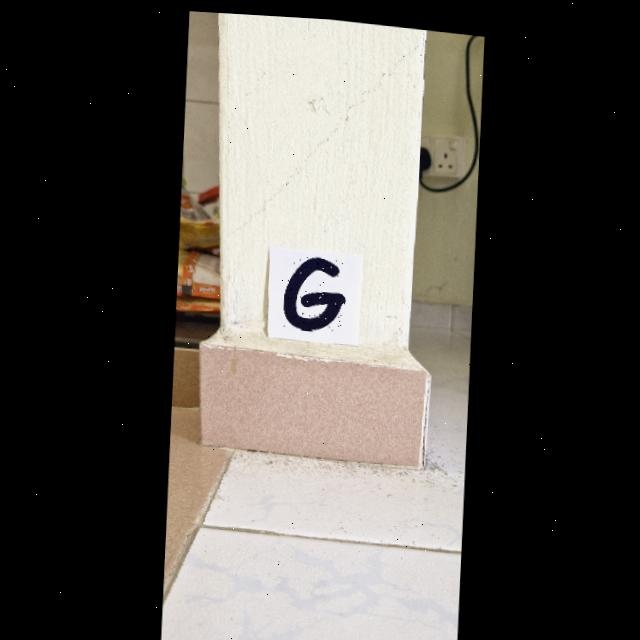G: (282, 254, 344, 327)
